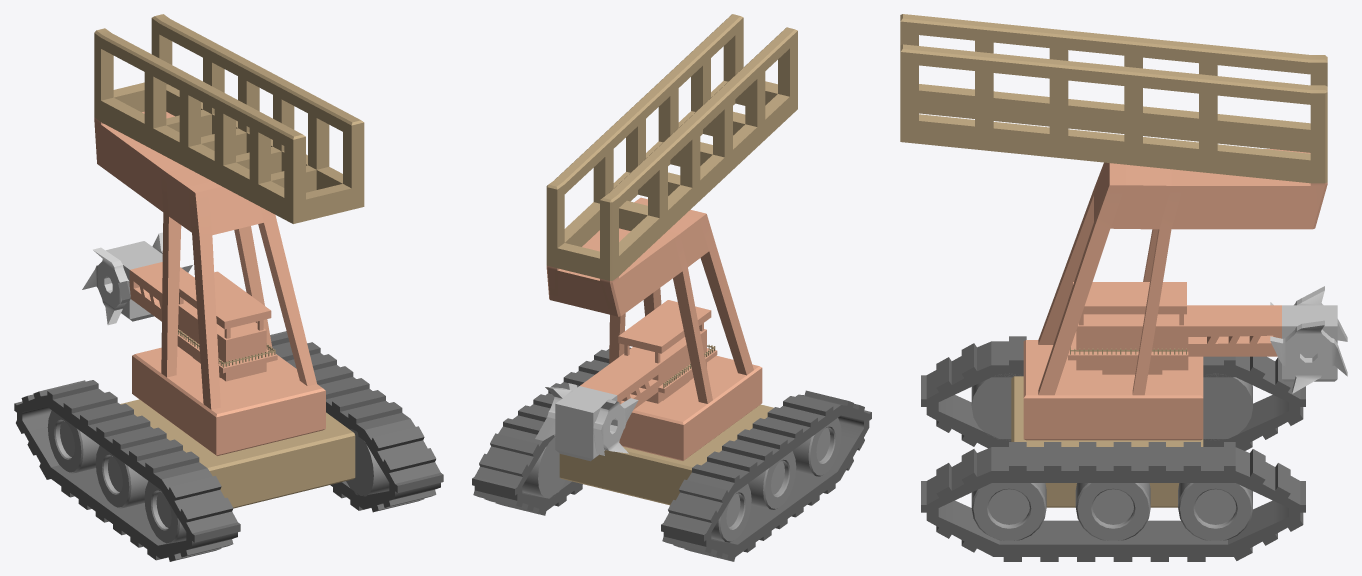
Rendered from B_Scrap_BWE_body.fbx.
The picture shows the model from 3 angles, left to right: view 1: azimuth 30°, elevation 25°; view 2: azimuth 150°, elevation 25°; view 3: azimuth 270°, elevation 25°; orthographic projection. The views are drawn at different scales.
Parts seen in each view (by area): view 1: polySurface20; view 2: polySurface20; view 3: polySurface20.
Part boxes in pixels (x1,y1,x2,y2): polySurface20: (14, 14, 443, 561); polySurface20: (472, 14, 871, 561); polySurface20: (900, 14, 1347, 561).
Size of the model in its own units: 0.3509 by 0.5877 by 0.5113.
Materials: 8 (6 with a texture image).
